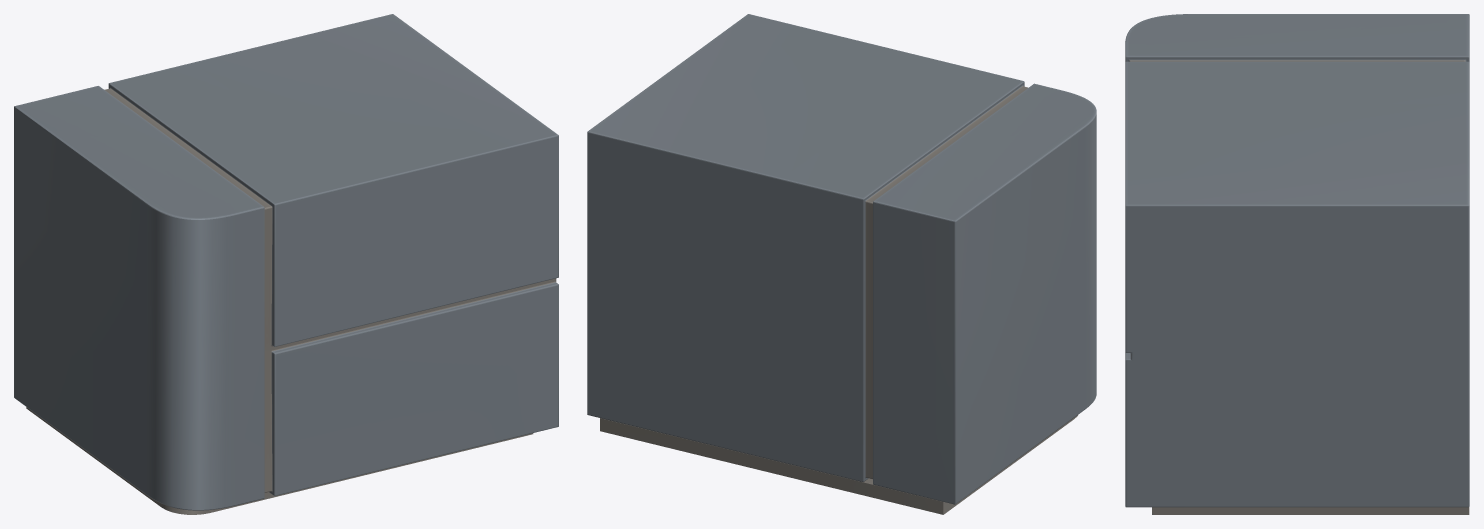
Rendered from raw_model.obj.
3 views of the same model, side by side, from view 1: azimuth 30°, elevation 25°; view 2: azimuth 150°, elevation 25°; view 3: azimuth 270°, elevation 25° (orthographic). The views are drawn at different scales.
Parts seen in each view (by area): view 1: solid_002, solid_001; view 2: solid_002, solid_001; view 3: solid_002, solid_001.
Part boxes in pixels (bbox=[...]): solid_002: bbox=[14, 14, 558, 510]; solid_001: bbox=[26, 88, 556, 514]; solid_002: bbox=[587, 14, 1096, 504]; solid_001: bbox=[600, 86, 1077, 514]; solid_002: bbox=[1125, 14, 1469, 507]; solid_001: bbox=[1129, 60, 1469, 514].
Bounding box in the file's own units: 0.5931 × 0.456 × 0.45.
1 material, 1 textured.
